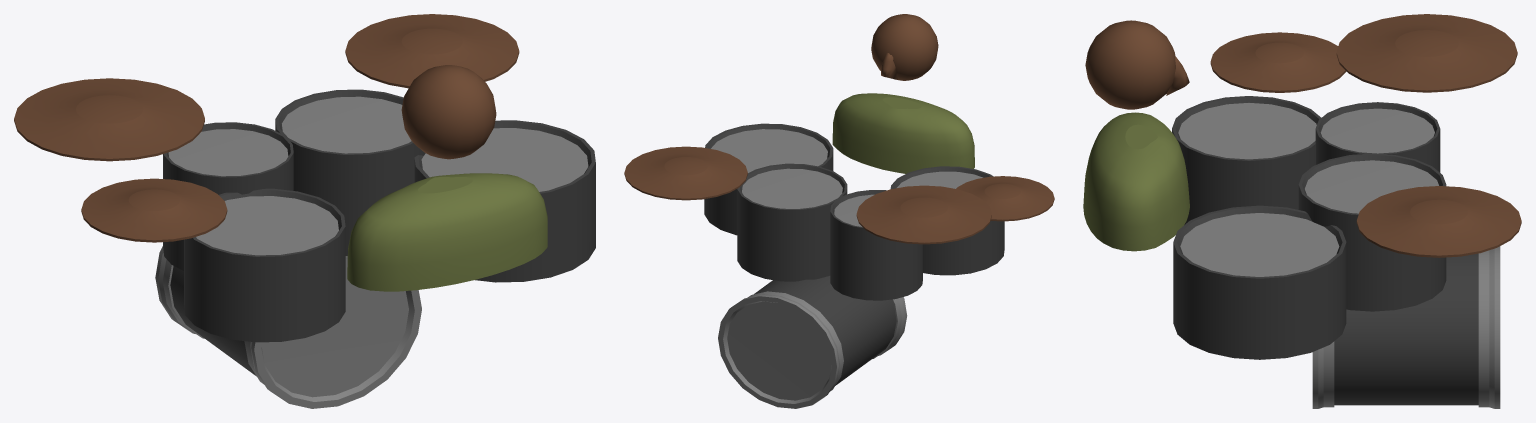
The model's file is Drummer.fbx.
The picture shows the model from 3 angles, left to right: view 1: azimuth 30°, elevation 25°; view 2: azimuth 150°, elevation 25°; view 3: azimuth 270°, elevation 25°; orthographic projection. The views are drawn at different scales.
Visible parts, largest first — view 1: polySurface87; view 2: polySurface87; view 3: polySurface87.
Boxes of the visible parts, <box> form: polySurface87: <box>14,14,595,408</box>; polySurface87: <box>624,14,1054,408</box>; polySurface87: <box>1083,14,1521,408</box>.
Size of the model in its own units: 4.28 by 3.3 by 3.43.
